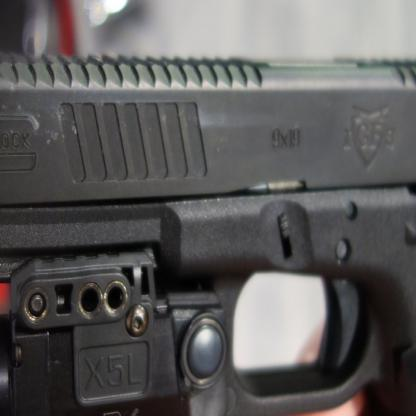gun: (0, 18, 415, 416)
